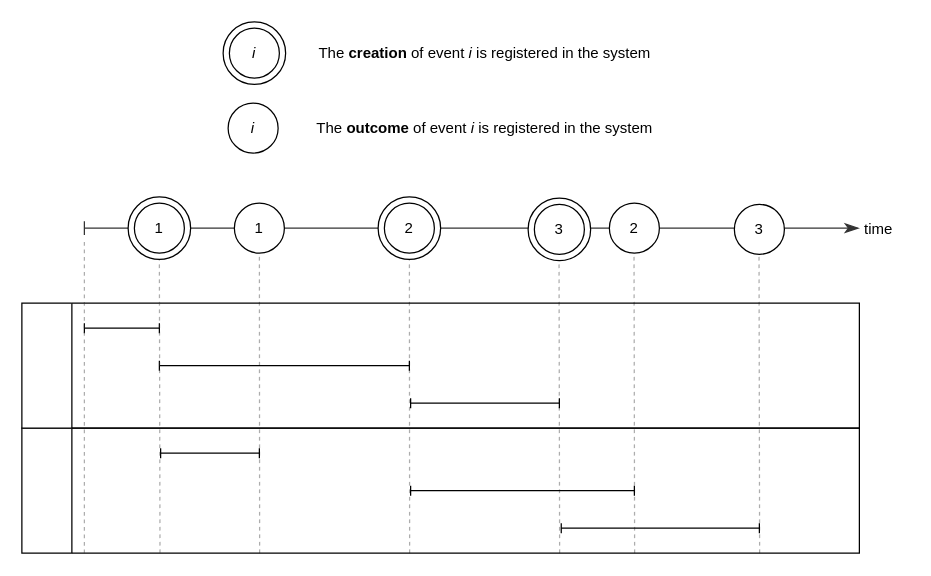
Some shapes in this 931 by 576 pixel diagram are drawn without their labels. The centre of each missing label's shape, as x and y in pixels:
"Creation Interval" belongs at pixel 440 365.
"Outcome Interval" belongs at pixel 440 490.
